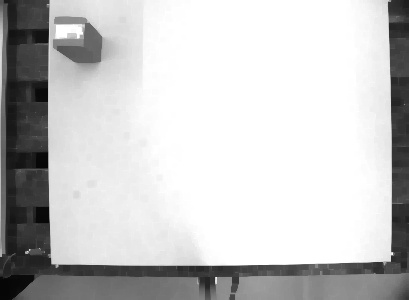b2: (50, 14, 104, 66)
